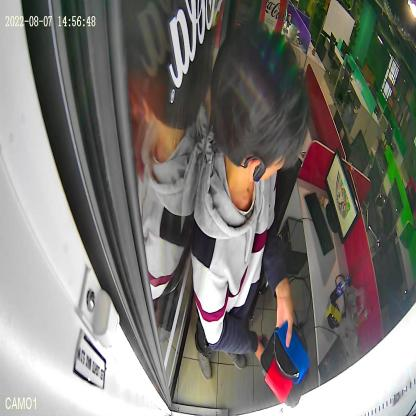blue: (274, 320, 310, 385)
red: (260, 326, 310, 408)
